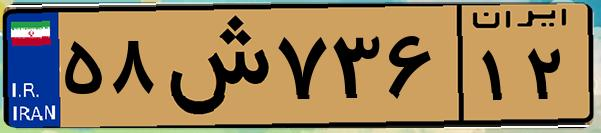1: (475, 38, 525, 113)
2: (525, 38, 570, 115)
3: (330, 28, 385, 110)
5: (57, 26, 110, 100)
6: (385, 28, 445, 110)
7: (270, 28, 330, 110)
8: (110, 28, 158, 98)
ش: (158, 12, 270, 120)
